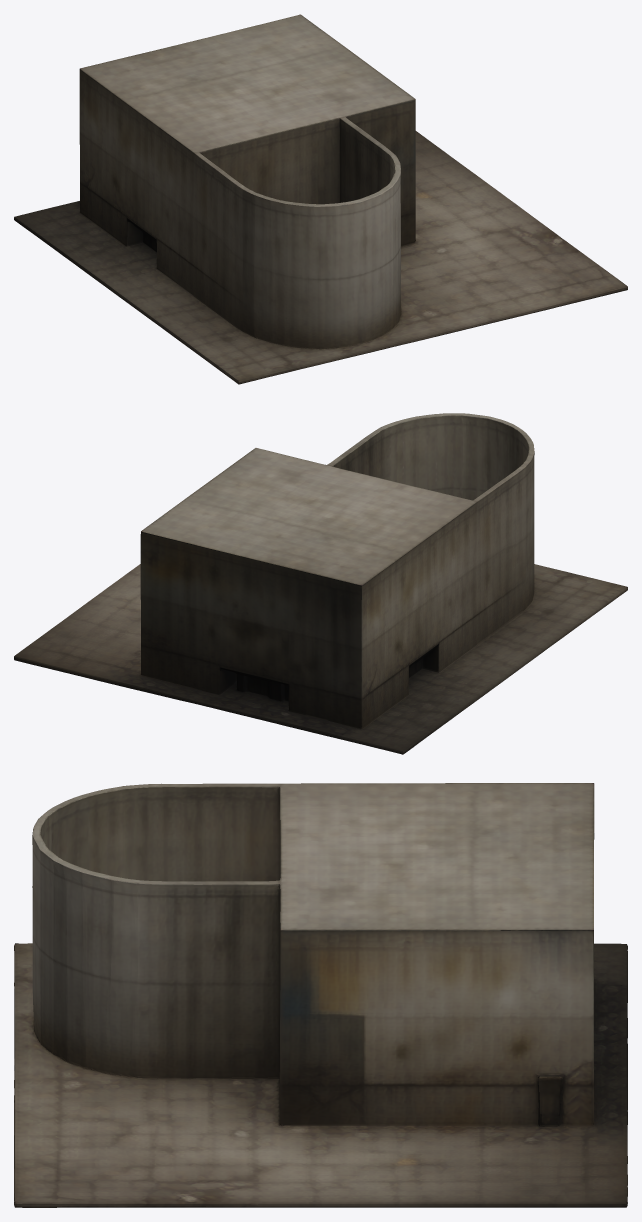
The picture shows the model from 3 angles, top to bottom: view 1: azimuth 30°, elevation 25°; view 2: azimuth 150°, elevation 25°; view 3: azimuth 270°, elevation 25°; orthographic projection. The views are drawn at different scales.
Visible parts, largest first — view 1: world; view 2: world; view 3: world.
Part boxes in pixels (<box>): world: <box>14,14,627,384</box>; world: <box>14,413,627,754</box>; world: <box>14,783,627,1207</box>.
Size of the model in its own units: 1 by 0.3635 by 1.
Materials: 1 (1 with a texture image).
